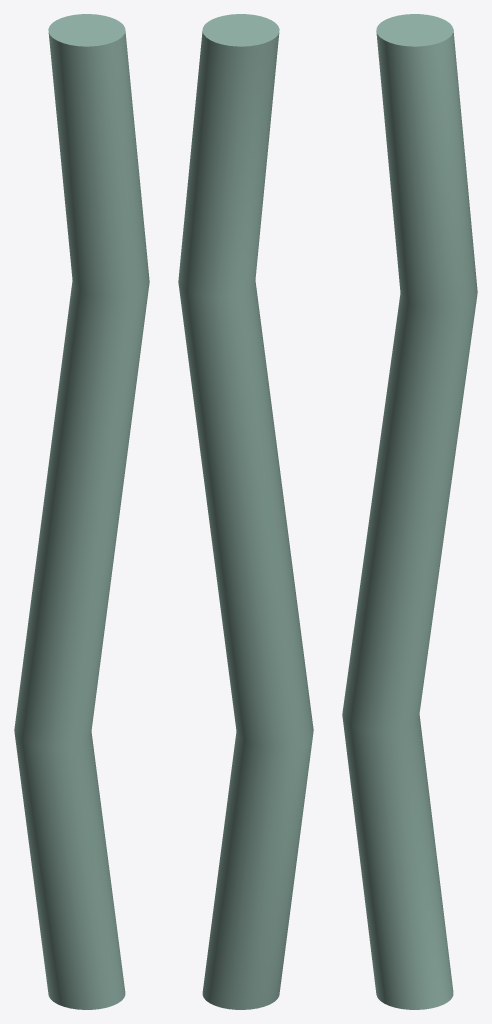
Rendered from Drain pipe module 3.fbx.
3 renders of one model, left to right at view 1: azimuth 30°, elevation 25°; view 2: azimuth 150°, elevation 25°; view 3: azimuth 330°, elevation 25°, orthographic.
Visible parts, largest first — view 1: Cylinder.012; view 2: Cylinder.012; view 3: Cylinder.012.
Boxes of the visible parts, x1=… form: Cylinder.012: x1=14, y1=14, x2=149, y2=1009; Cylinder.012: x1=178, y1=14, x2=313, y2=1009; Cylinder.012: x1=342, y1=14, x2=477, y2=1009.
Bounding box in the file's own units: 38.56 × 284 × 20.62.
